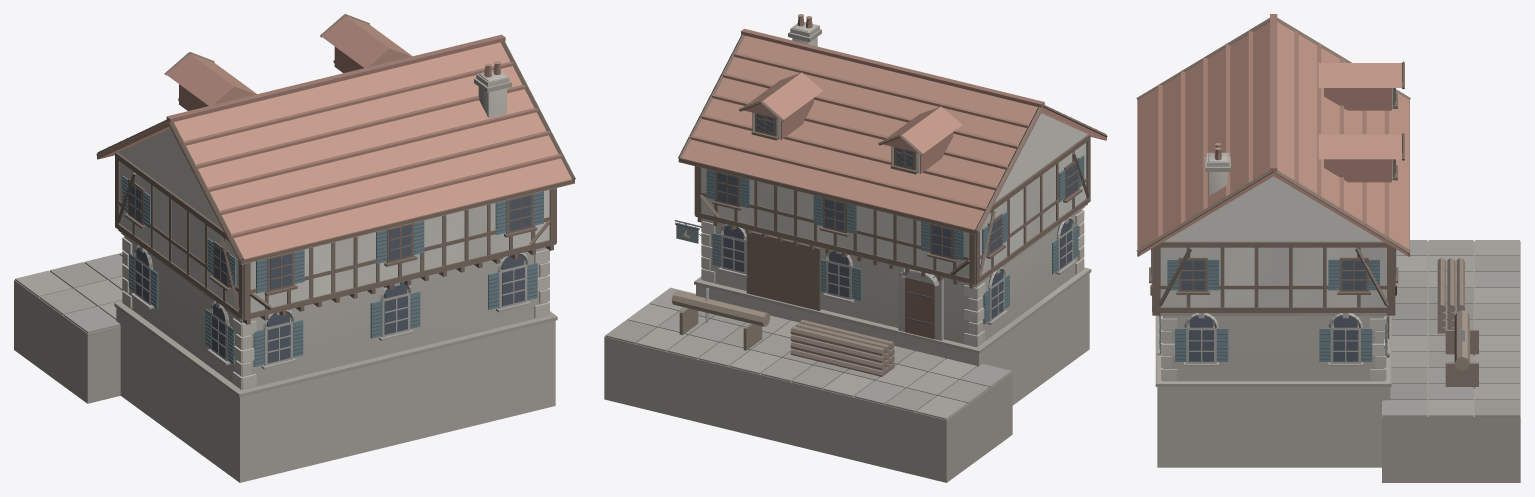
File: shipyard_4.gltf
3 renders of one model, left to right at view 1: azimuth 30°, elevation 25°; view 2: azimuth 150°, elevation 25°; view 3: azimuth 270°, elevation 25°, orthographic. The views are drawn at different scales.
Parts seen in each view (by area): view 1: Body; view 2: Body; view 3: Body.
Part boxes in pixels (box(x1,y1,x2,y2)): Body: box(14, 14, 575, 482); Body: box(604, 14, 1107, 482); Body: box(1136, 14, 1520, 482).
Bounding box in the file's own units: 15 × 12.22 × 13.85.
